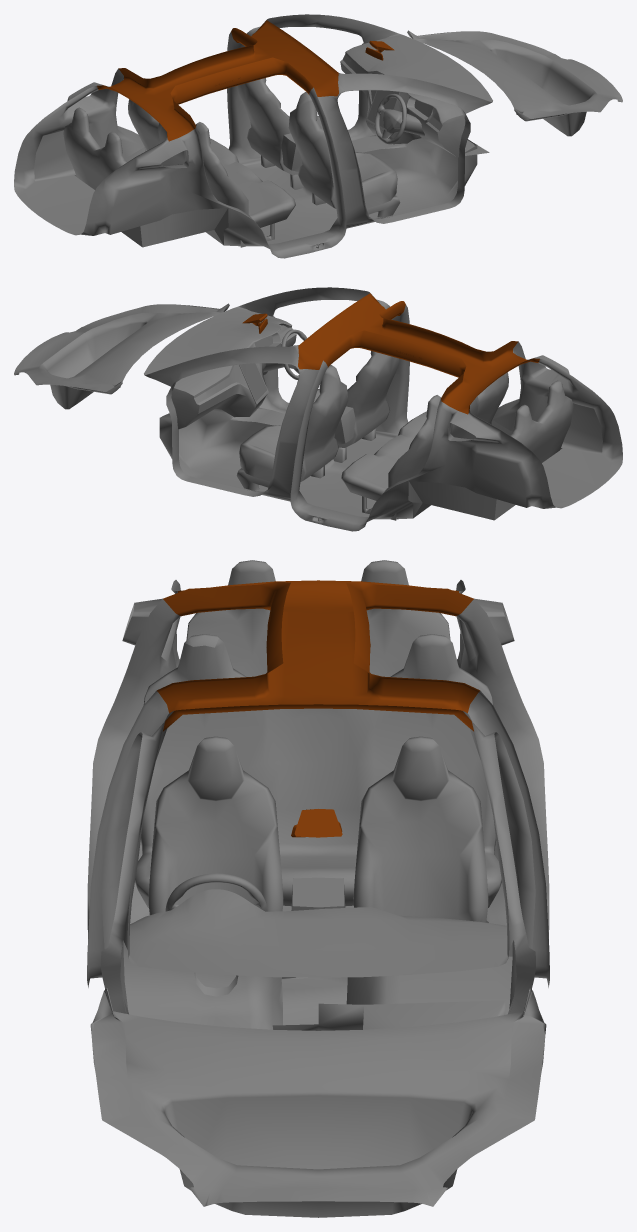
File: Interior_7_Seater_RHD.obj
3 views of the same model, one above another, from view 1: azimuth 30°, elevation 25°; view 2: azimuth 150°, elevation 25°; view 3: azimuth 270°, elevation 25° (orthographic). The views are drawn at different scales.
Visible parts, largest first — view 1: Interior_7_Seater_RHD; view 2: Interior_7_Seater_RHD; view 3: Interior_7_Seater_RHD.
Part boxes in pixels (left/top/right/bottom): Interior_7_Seater_RHD: left=14, top=14, right=622, bottom=258; Interior_7_Seater_RHD: left=14, top=287, right=622, bottom=531; Interior_7_Seater_RHD: left=87, top=560, right=549, bottom=1217.
Size of the model in its own units: 4.9 by 1.31 by 1.75.
